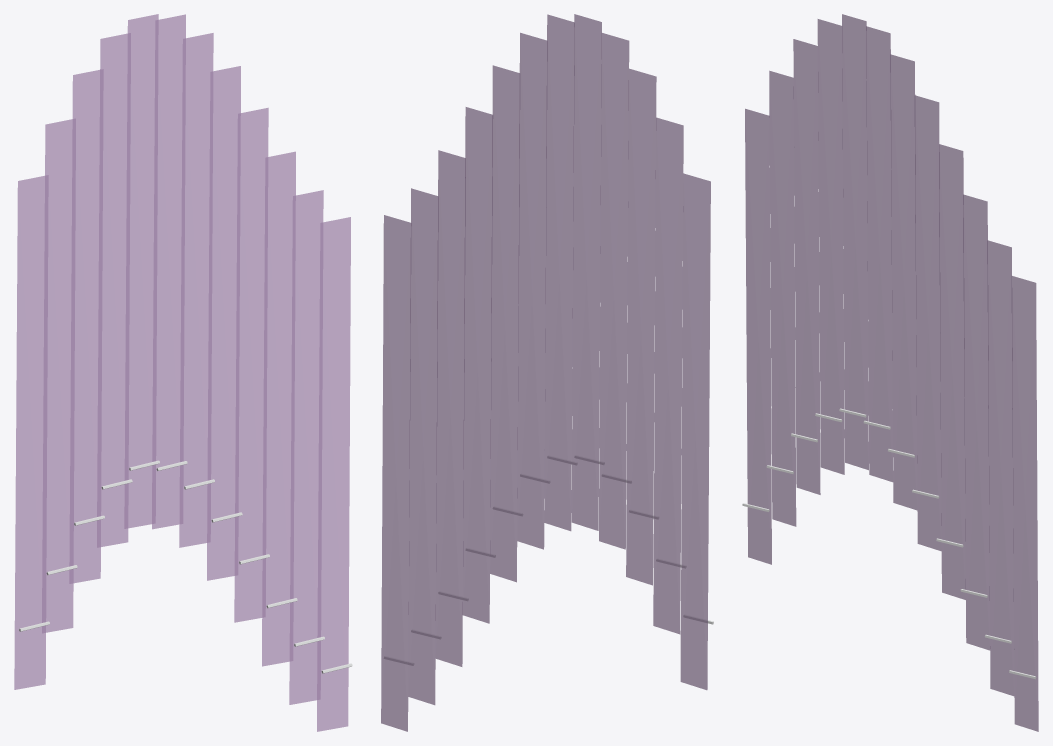
The model's file is aurora_violeta.glb.
3 renders of one model, left to right at view 1: azimuth 30°, elevation 25°; view 2: azimuth 150°, elevation 25°; view 3: azimuth 330°, elevation 25°, orthographic. The views are drawn at different scales.
Visible parts, largest first — view 1: aurora_violeta; view 2: aurora_violeta; view 3: aurora_violeta.
Boxes of the visible parts, x1=… form: aurora_violeta: x1=14, y1=14, x2=352, y2=731; aurora_violeta: x1=381, y1=14, x2=713, y2=731; aurora_violeta: x1=742, y1=14, x2=1038, y2=731.
Size of the model in its own units: 5.43 by 11.91 by 0.1838.
